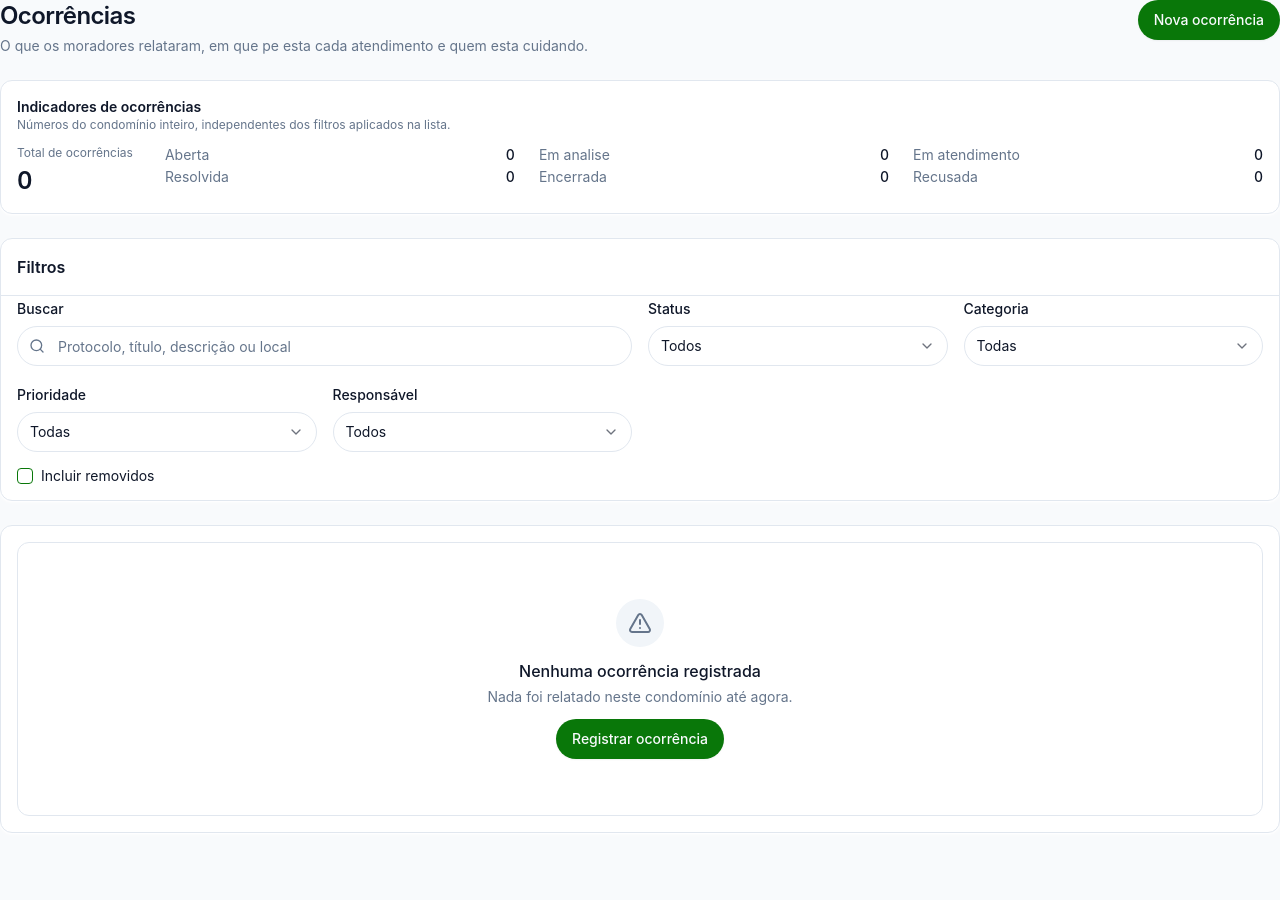
Test: Cadastro de ocorrência › o protocolo aparece, mas não e preenchido a mao
Check: the text "Nenhuma ocorrência registrada" is shown, box [519, 661, 761, 681]
Click the button "Nova ocorrência" at (1209, 20), box [1138, 0, 1279, 40]
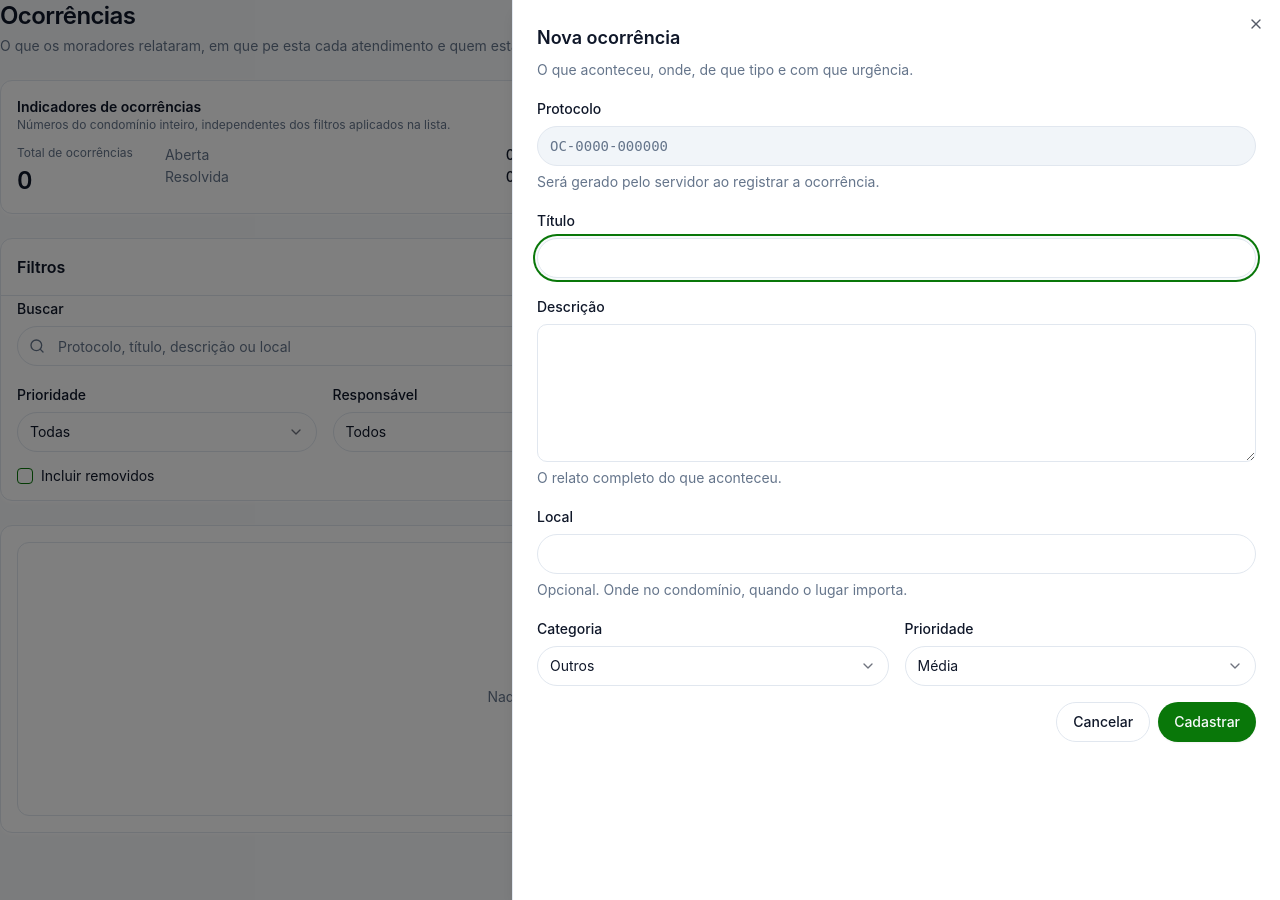
Check: the field labelled "Título" is shown, box [537, 238, 1256, 278]
Check: the field labelled "Protocolo" is empty, box [537, 126, 1256, 166]
Check: the text "Será gerado pelo servidor ao registrar a ocorrência." is shown, box [537, 173, 880, 190]
